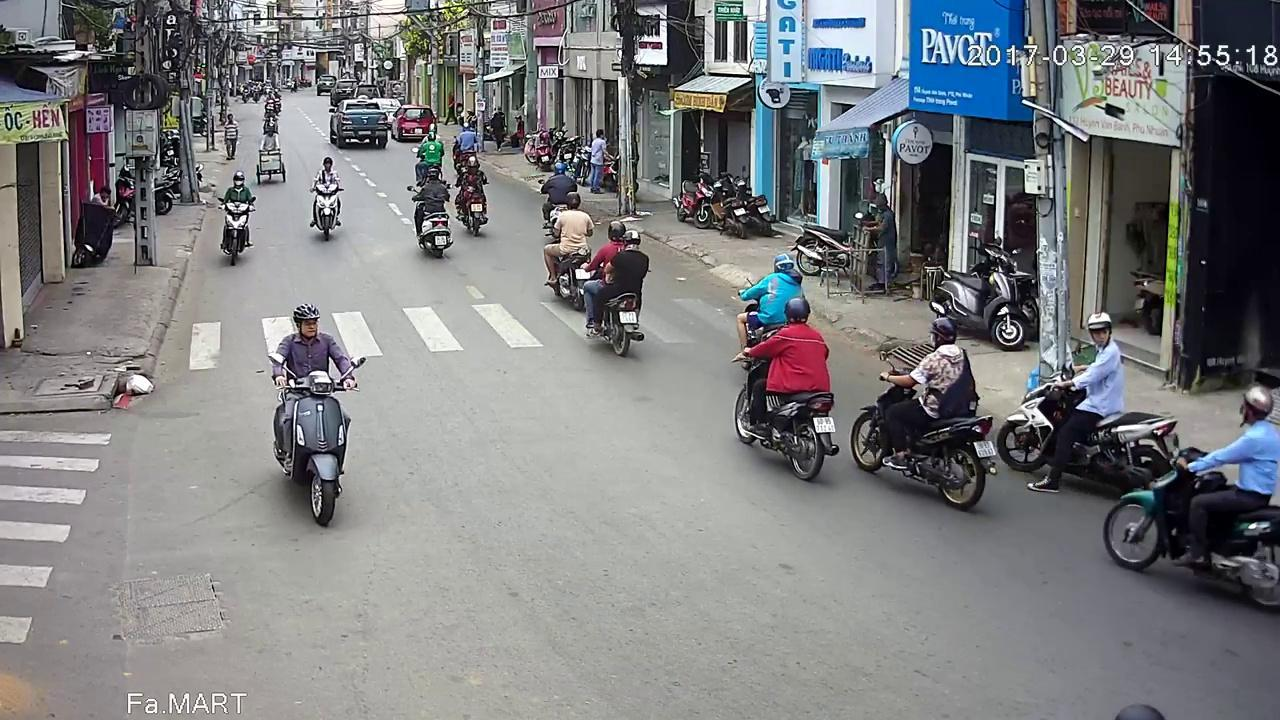xe hoi: (331, 98, 393, 150), (390, 103, 436, 140)
xe may: (1101, 385, 1279, 612), (992, 316, 1178, 502), (845, 318, 995, 511), (263, 305, 362, 529), (729, 299, 837, 482), (596, 216, 663, 352), (546, 191, 598, 311), (409, 167, 457, 256), (213, 169, 253, 265), (455, 155, 491, 238), (310, 159, 345, 243)
